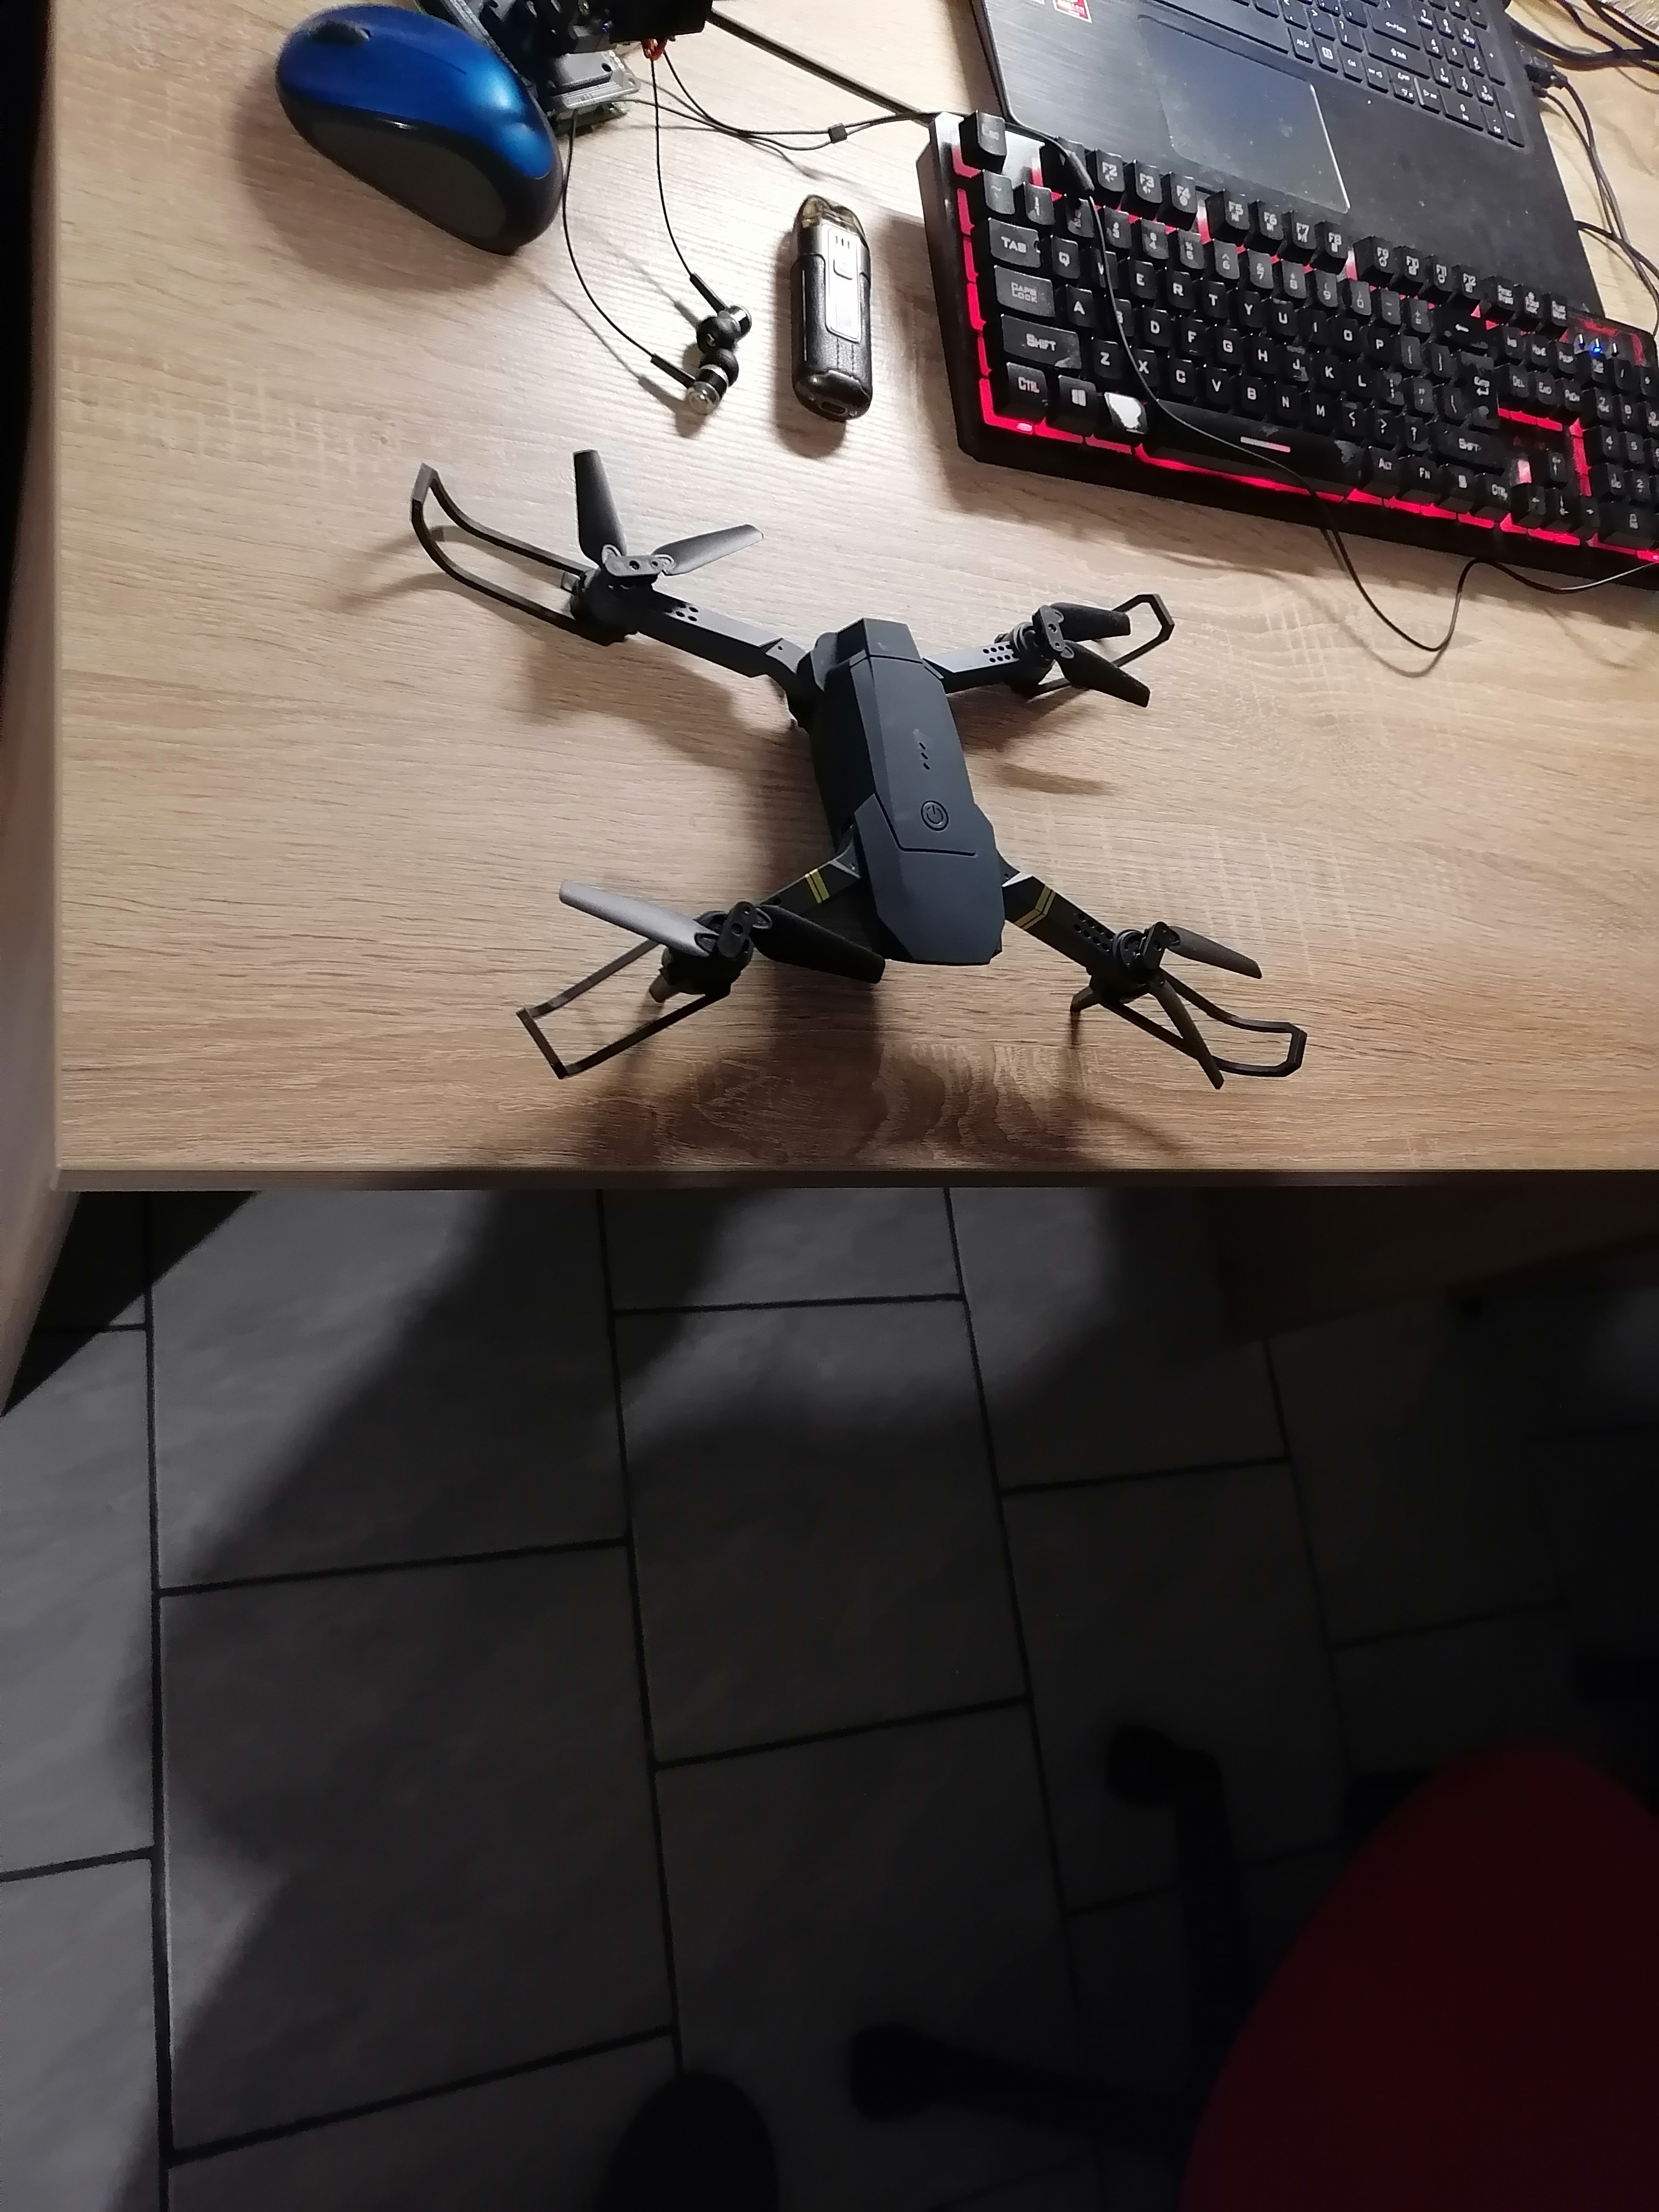drone: (399, 432, 1345, 1127)
